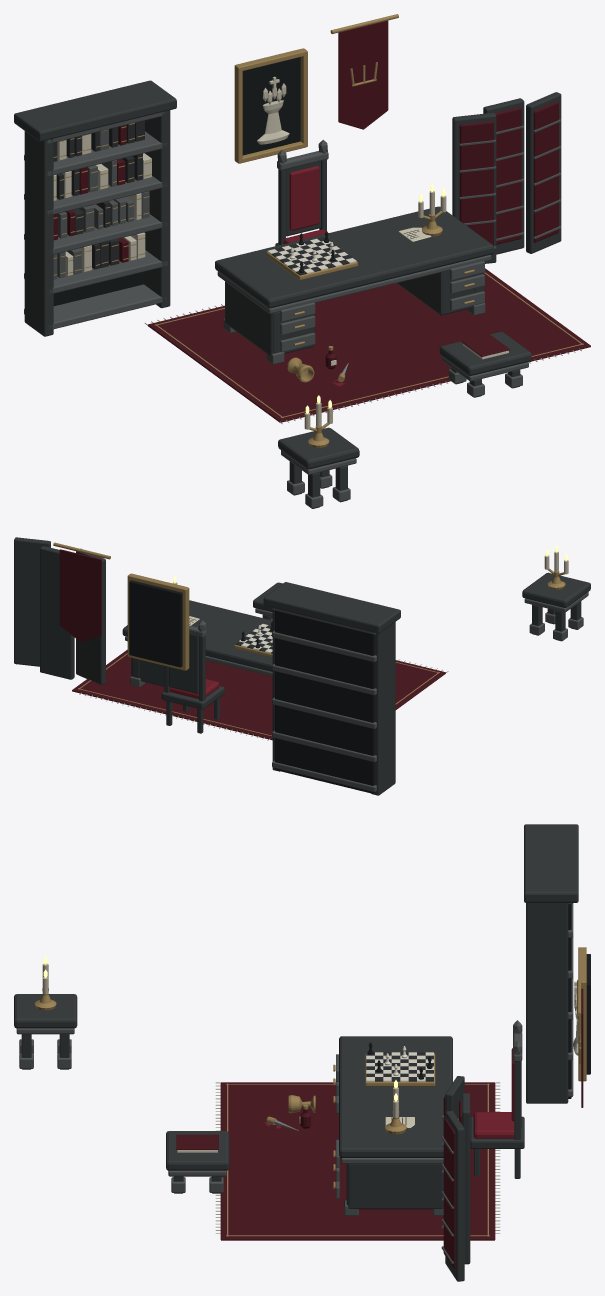
File: ROOM_study.glb
3 renders of one model, top to bottom at view 1: azimuth 30°, elevation 25°; view 2: azimuth 150°, elevation 25°; view 3: azimuth 270°, elevation 25°, orthographic. The views are drawn at different scales.
Visible parts, largest first — view 1: ROOM_study__redshadow, ROOM_study__wood, ROOM_study__woodedge, ROOM_study__brass, ROOM_study__coal, ROOM_study__black, ROOM_study__edge, ROOM_study__red, ROOM_study__ivory, ROOM_study__wax; view 2: ROOM_study__wood, ROOM_study__coal, ROOM_study__redshadow, ROOM_study__woodedge, ROOM_study__brass, ROOM_study__ivory, ROOM_study__black, ROOM_study__red; view 3: ROOM_study__wood, ROOM_study__redshadow, ROOM_study__woodedge, ROOM_study__brass, ROOM_study__coal, ROOM_study__red, ROOM_study__ivory, ROOM_study__black, ROOM_study__edge.
Part boxes in pixels (left/top/right/bottom): ROOM_study__redshadow: left=53, top=20, right=590, bottom=422; ROOM_study__wood: left=14, top=80, right=561, bottom=508; ROOM_study__woodedge: left=24, top=111, right=560, bottom=508; ROOM_study__brass: left=53, top=14, right=583, bottom=447; ROOM_study__coal: left=53, top=57, right=419, bottom=306; ROOM_study__black: left=53, top=120, right=352, bottom=275; ROOM_study__edge: left=53, top=76, right=581, bottom=424; ROOM_study__red: left=283, top=166, right=344, bottom=386; ROOM_study__ivory: left=267, top=238, right=356, bottom=273; ROOM_study__wax: left=304, top=191, right=446, bottom=429; ROOM_study__wood: left=14, top=537, right=590, bottom=795; ROOM_study__coal: left=129, top=580, right=374, bottom=793; ROOM_study__redshadow: left=59, top=549, right=445, bottom=740; ROOM_study__woodedge: left=125, top=592, right=588, bottom=792; ROOM_study__brass: left=53, top=542, right=565, bottom=736; ROOM_study__ivory: left=239, top=624, right=272, bottom=653; ROOM_study__black: left=235, top=625, right=272, bottom=653; ROOM_study__red: left=170, top=679, right=219, bottom=698; ROOM_study__wood: left=14, top=824, right=578, bottom=1281; ROOM_study__redshadow: left=176, top=988, right=583, bottom=1267; ROOM_study__woodedge: left=16, top=903, right=573, bottom=1263; ROOM_study__brass: left=34, top=947, right=586, bottom=1236; ROOM_study__coal: left=367, top=904, right=590, bottom=1124; ROOM_study__red: left=264, top=1048, right=514, bottom=1138; ROOM_study__ivory: left=366, top=1046, right=433, bottom=1081; ROOM_study__black: left=366, top=1052, right=433, bottom=1081; ROOM_study__edge: left=215, top=981, right=578, bottom=1233.
Bounding box in the file's own units: 6.92 × 2.87 × 6.83.
